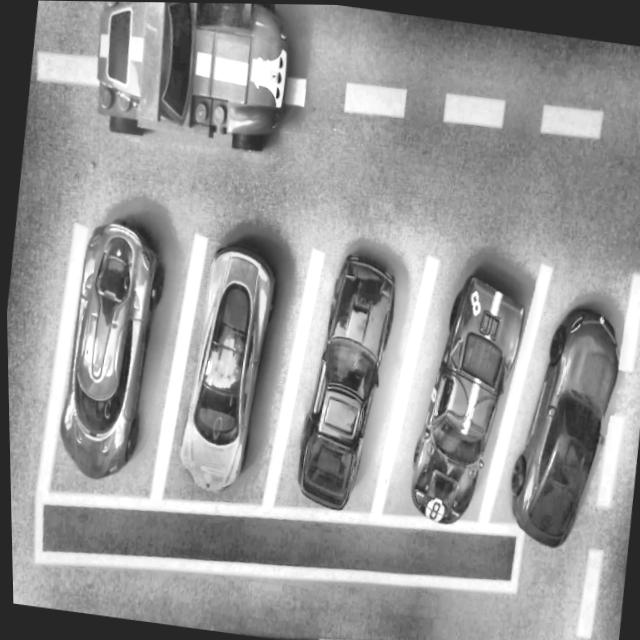car: (79, 1, 307, 169), (398, 267, 530, 531), (47, 216, 172, 485), (497, 297, 627, 553), (285, 246, 402, 515), (169, 239, 283, 496)
